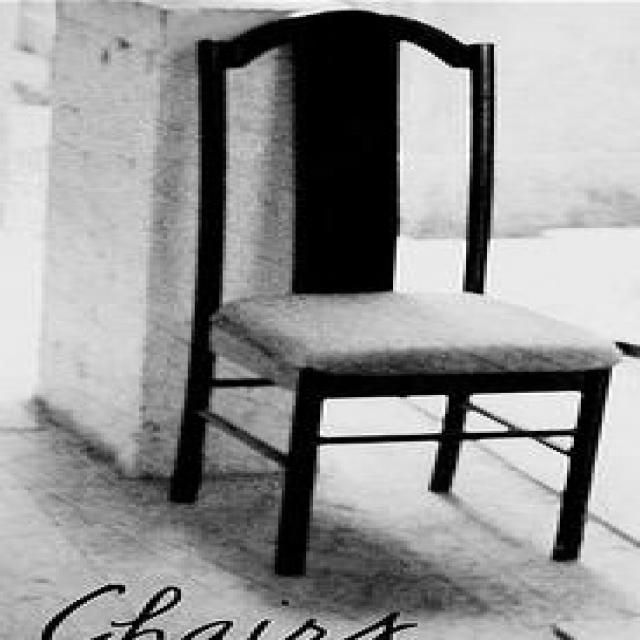chair: (172, 9, 622, 579)
